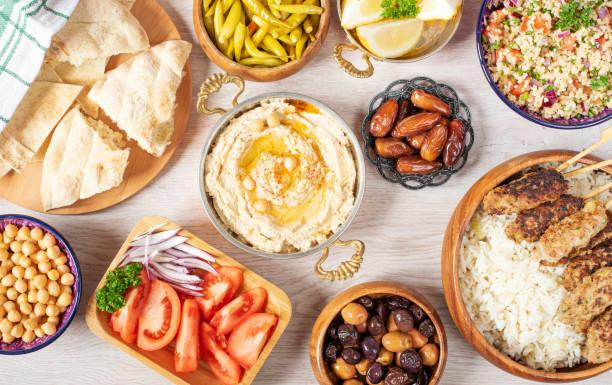Braised Crucian Carp: (4, 1, 190, 215), (440, 149, 608, 380), (85, 215, 287, 383), (197, 91, 359, 261), (476, 0, 612, 129)
